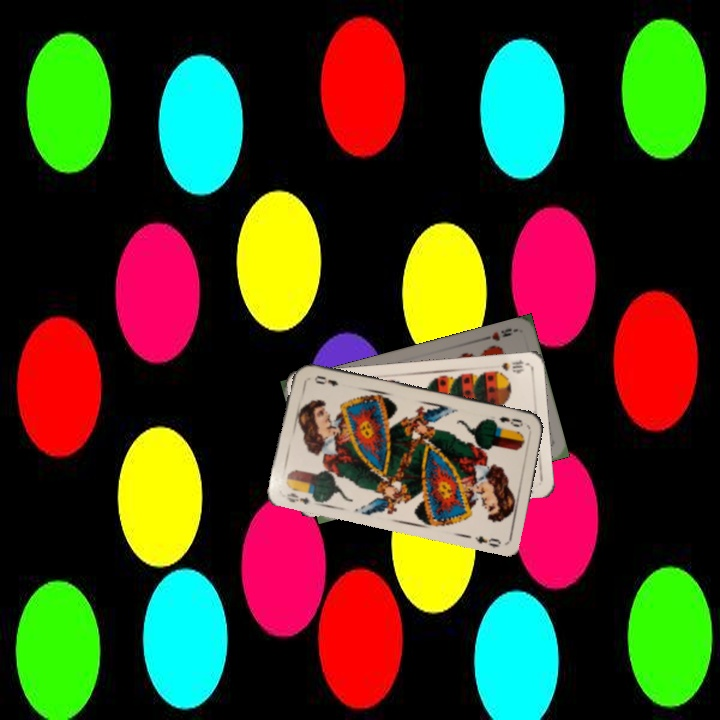EO: (282, 488, 312, 507), (495, 412, 526, 430)
H9: (479, 324, 514, 343)
S10: (497, 356, 529, 375)
